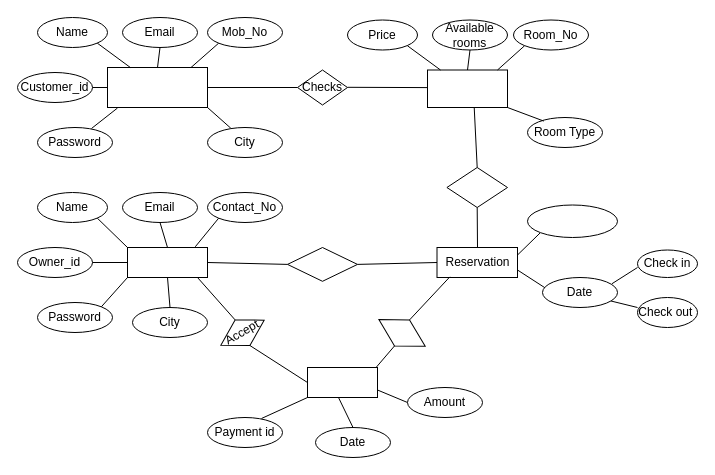
The diagram is 715 pixels wide and 475 high, and some of its shapes have lost their labels. Here are the shapes that lost their labels. From the top down, the centre of each, then its label:
At (x=157, y=87): "Customer".
At (x=467, y=88): "Room".
At (x=477, y=187): "Reserve".
At (x=572, y=221): "Reservation_id".
At (x=167, y=262): "Hotel_Owner".
At (x=322, y=263): "Manages".
At (x=401, y=332): "Allows".
At (x=342, y=382): "Payment".
